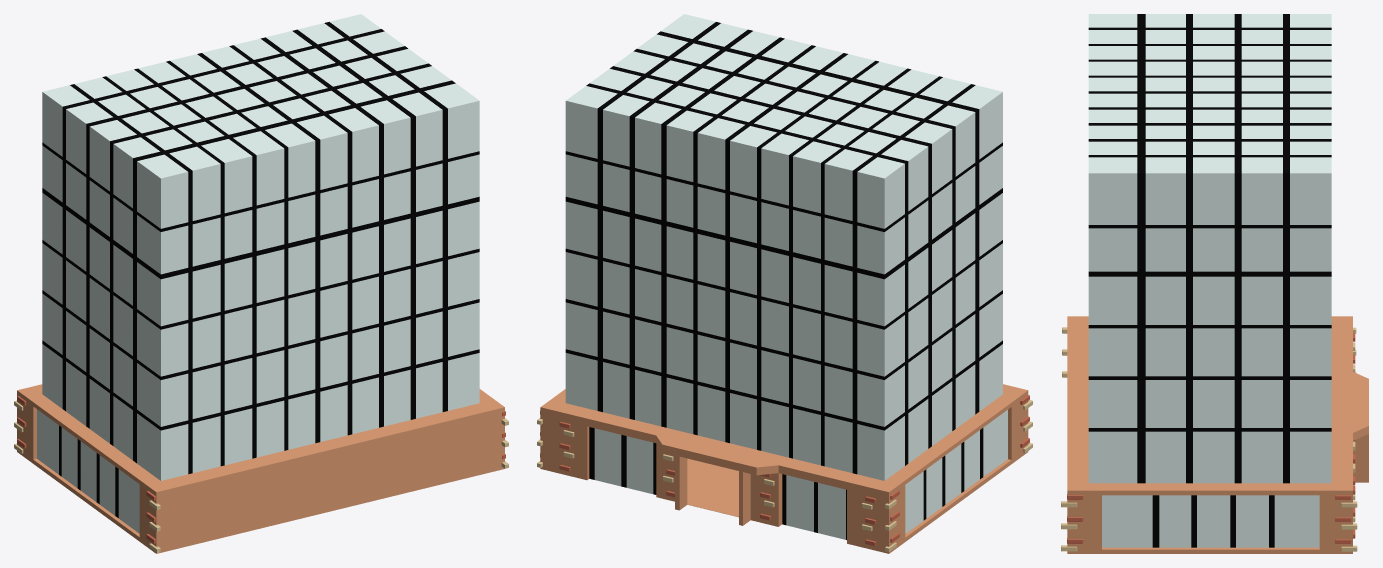
Rendered from famPredio.fbx.
3 renders of one model, left to right at view 1: azimuth 30°, elevation 25°; view 2: azimuth 150°, elevation 25°; view 3: azimuth 270°, elevation 25°, orthographic. The views are drawn at different scales.
Visible parts, largest first — view 1: Cube.009; view 2: Cube.009; view 3: Cube.009.
Part boxes in pixels (x1=…): Cube.009: x1=14, y1=14, x2=508, y2=553; Cube.009: x1=537, y1=14, x2=1032, y2=553; Cube.009: x1=1061, y1=14, x2=1368, y2=553.
Bounding box in the file's own units: 7719 × 7627 × 5703.
